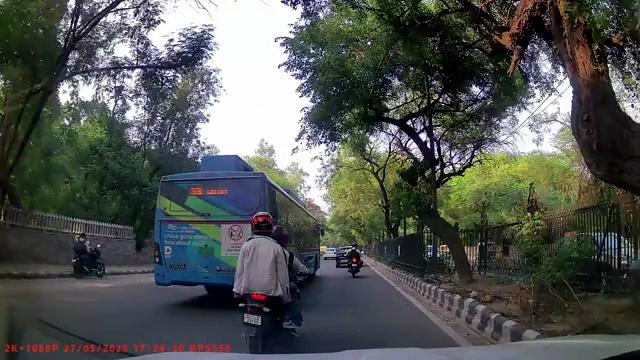motorcycle_with_helmet: (70, 230, 107, 279), (345, 243, 363, 278)
passenger_with_helmet: (232, 210, 303, 352)
